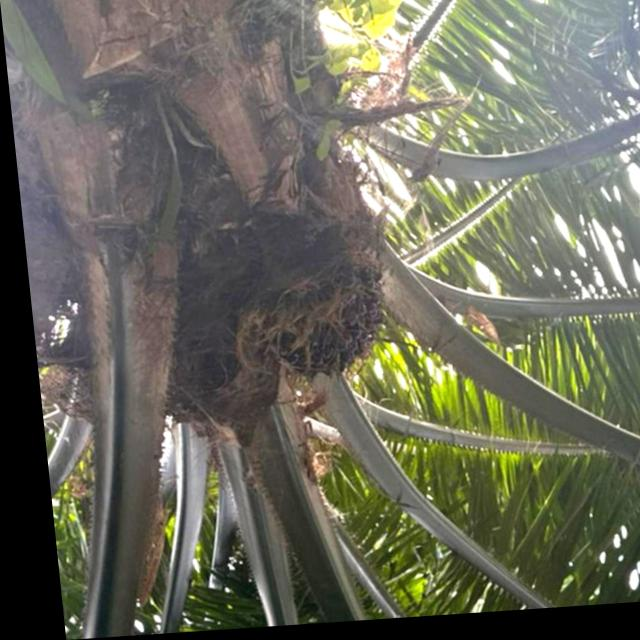ripe: (256, 266, 383, 395)
